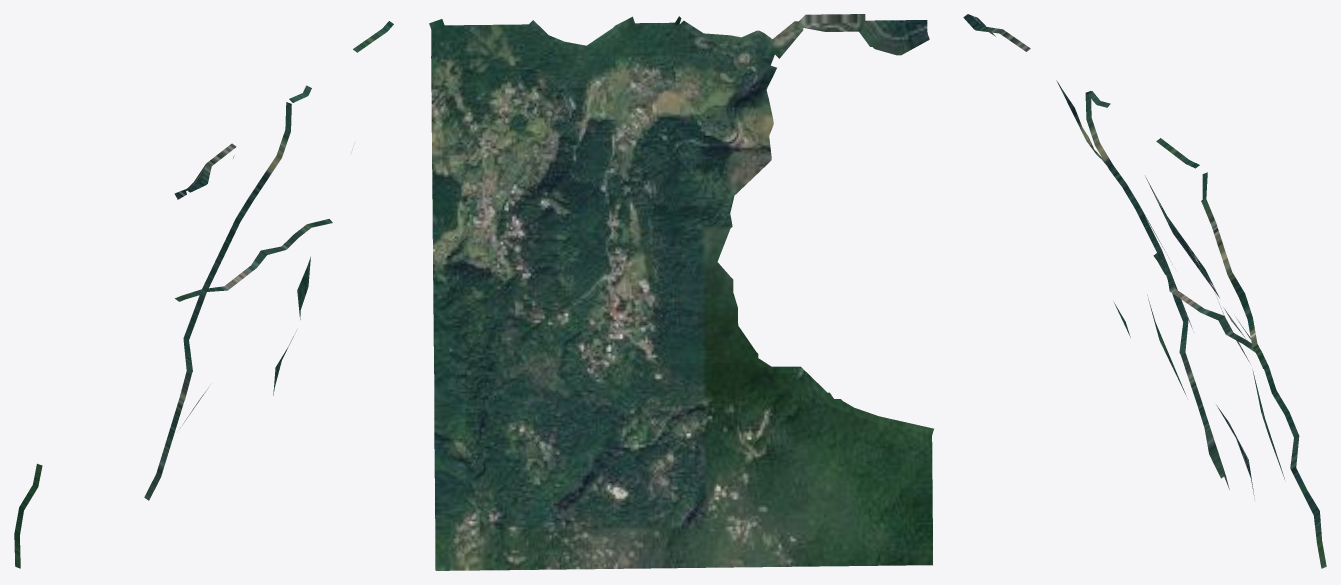
3 views of the same model, side by side, from view 1: azimuth 30°, elevation 25°; view 2: azimuth 150°, elevation 25°; view 3: azimuth 270°, elevation 25° (orthographic). The views are drawn at different scales.
Size of the model in its own units: 2385 by 2425 by 1814.
1 material, 1 textured.
